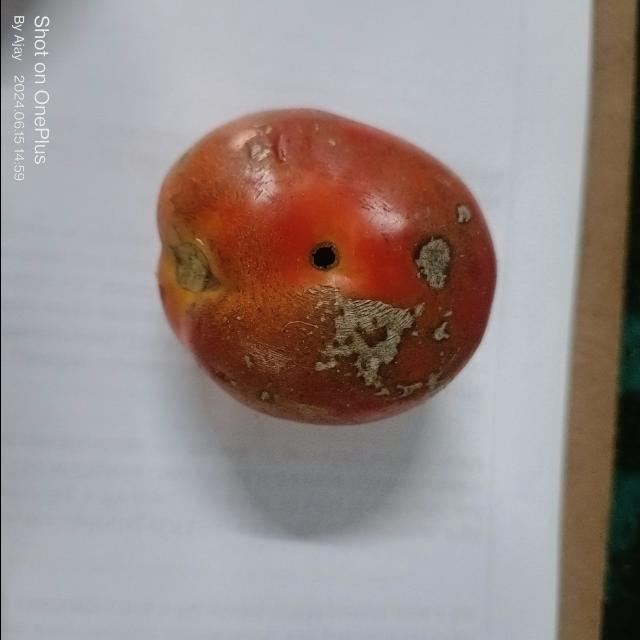fruitworm_bore: (413, 234, 455, 287), (310, 238, 342, 274)
